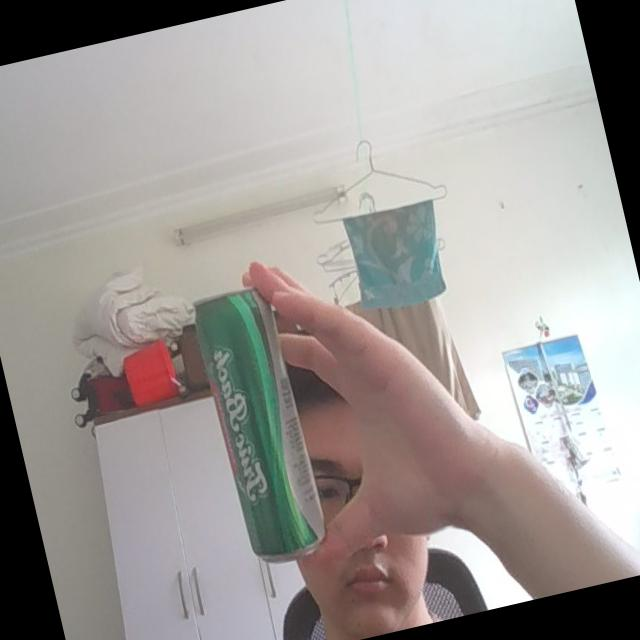Bia-Truc-Bach: (186, 278, 332, 568)
